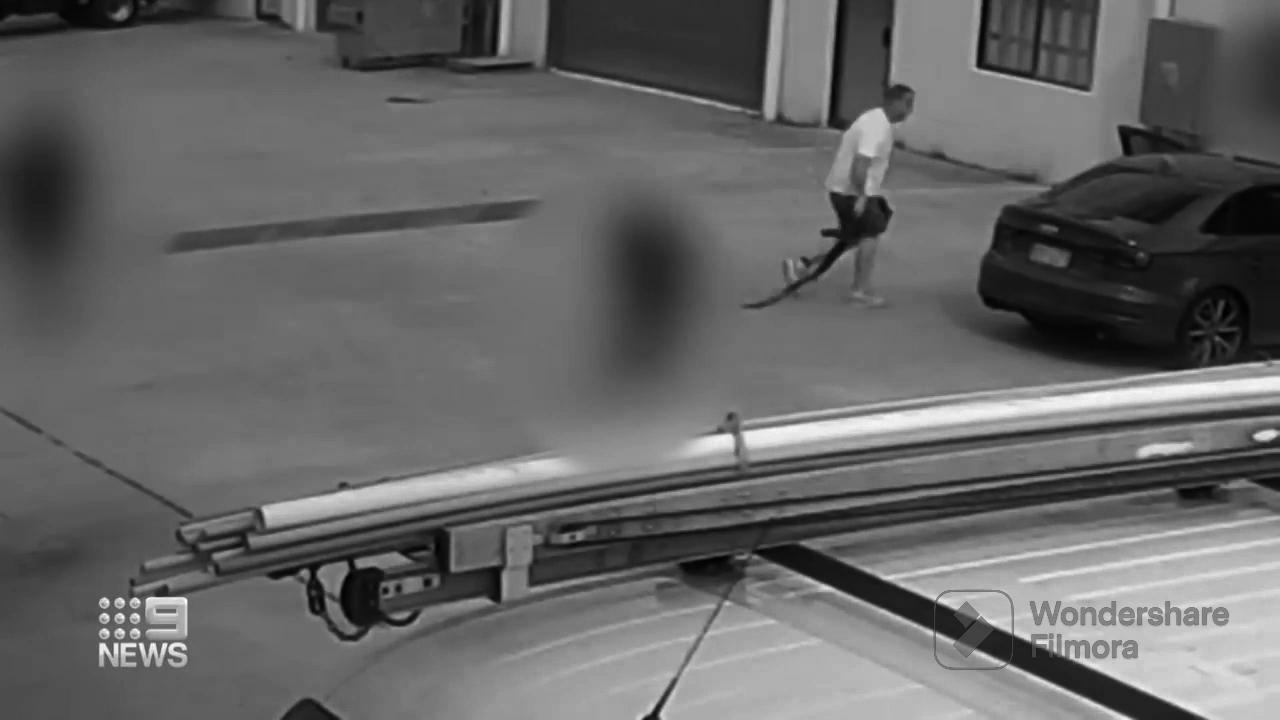gun: (806, 218, 862, 282)
